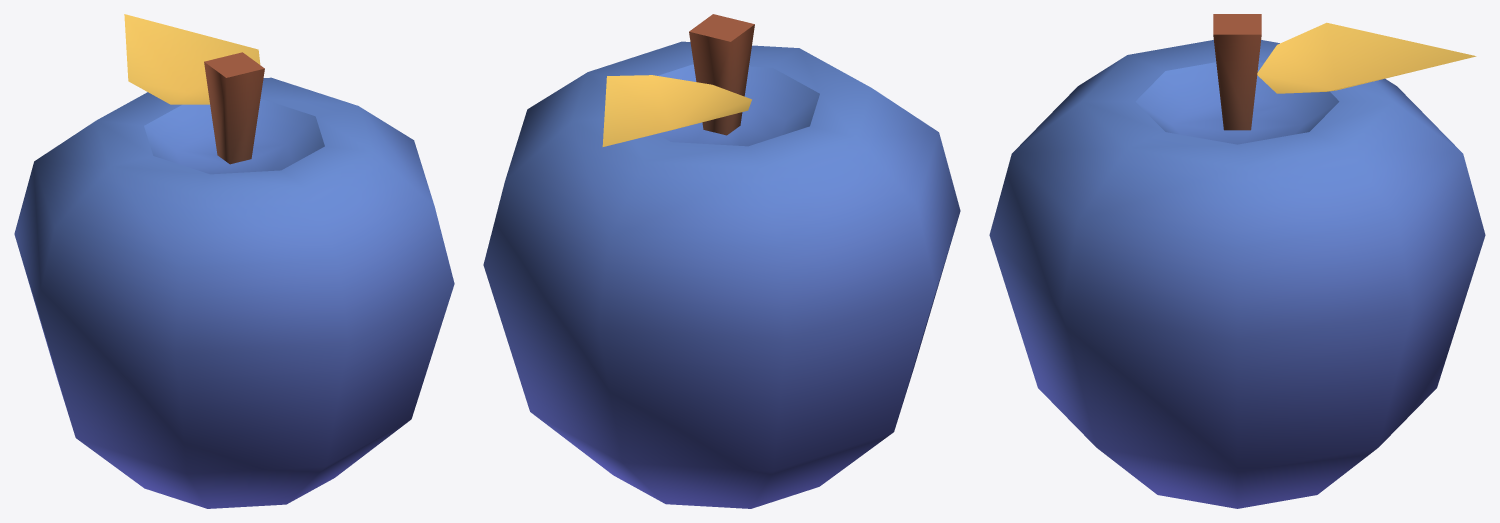
Rendered from apple.glb.
3 renders of one model, left to right at view 1: azimuth 30°, elevation 25°; view 2: azimuth 150°, elevation 25°; view 3: azimuth 270°, elevation 25°, orthographic. The views are drawn at different scales.
Visible parts, largest first — view 1: apple.001; view 2: apple.001; view 3: apple.001.
Part boxes in pixels (x1,y1,x2,y2): apple.001: [14, 14, 454, 508]; apple.001: [483, 14, 960, 508]; apple.001: [989, 14, 1485, 508].
Size of the model in its own units: 0.1963 by 0.1908 by 0.1963.
1 material, 1 textured.
